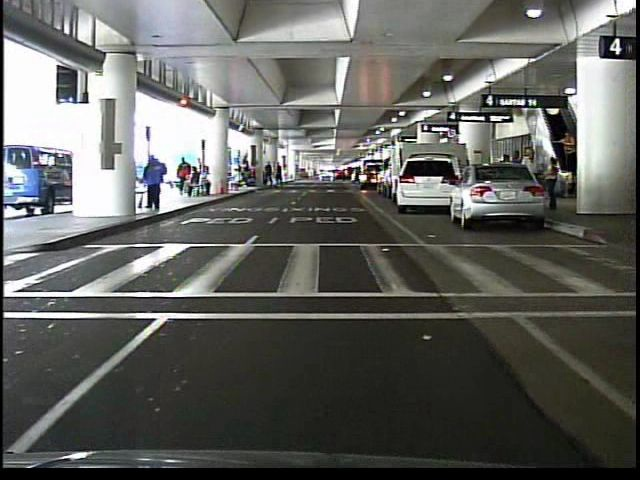person: (140, 154, 169, 213), (553, 126, 576, 174)
